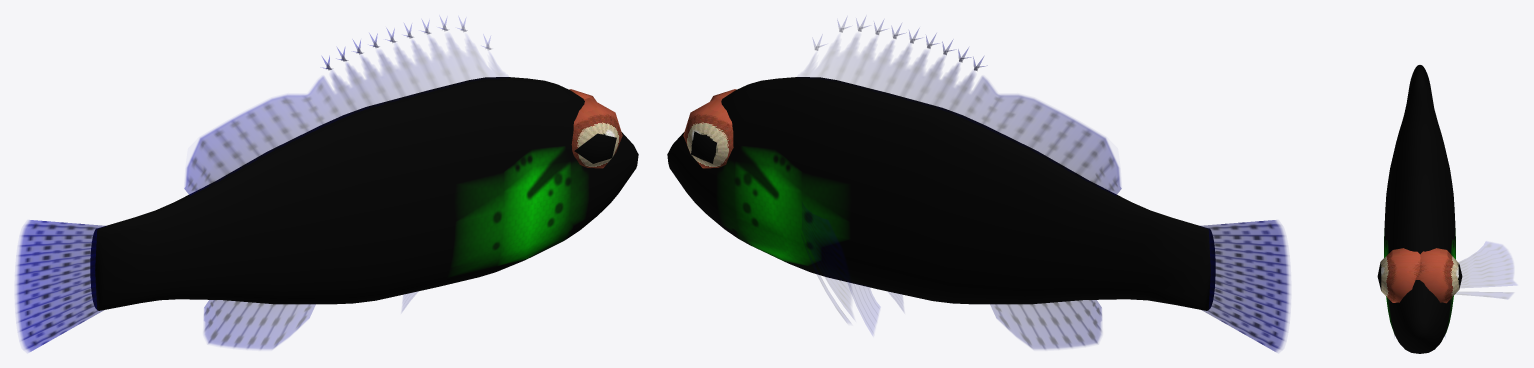
Rendered from hawkfish_lod1.glb.
The picture shows the model from 3 angles, left to right: view 1: azimuth 30°, elevation 25°; view 2: azimuth 150°, elevation 25°; view 3: azimuth 270°, elevation 25°; orthographic projection. The views are drawn at different scales.
Parts seen in each view (by area): view 1: Body, FinDorsal, FinCaudal, FinAnal, EyeR; view 2: Body, FinDorsal, FinCaudal, FinAnal, EyeL, FinPectoralL, FinPelvicL; view 3: Body, FinPectoralL, EyeL, EyeR.
Boxes of the visible parts, x1=… form: Body: x1=90, y1=77, x2=638, y2=310; FinDorsal: x1=184, y1=17, x2=503, y2=195; FinCaudal: x1=16, y1=220, x2=106, y2=351; FinAnal: x1=204, y1=300, x2=315, y2=349; EyeR: x1=571, y1=98, x2=622, y2=168; Body: x1=667, y1=77, x2=1215, y2=310; FinDorsal: x1=802, y1=17, x2=1121, y2=195; FinCaudal: x1=1199, y1=220, x2=1289, y2=351; FinAnal: x1=990, y1=300, x2=1101, y2=349; EyeL: x1=683, y1=98, x2=733, y2=168; FinPectoralL: x1=801, y1=203, x2=852, y2=321; FinPelvicL: x1=849, y1=282, x2=879, y2=334; Body: x1=1384, y1=65, x2=1455, y2=353; FinPectoralL: x1=1456, y1=242, x2=1515, y2=298; EyeL: x1=1415, y1=248, x2=1462, y2=303; EyeR: x1=1377, y1=248, x2=1420, y2=302.
Size of the model in its own units: 1 by 0.4726 by 0.3319.
4 materials, 3 textured.
